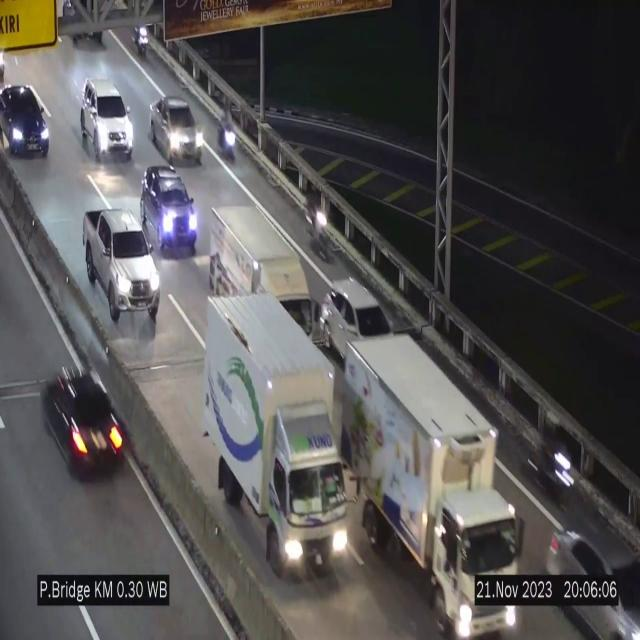Car: (545, 510, 640, 640), (37, 357, 128, 474), (81, 204, 160, 326), (323, 276, 394, 358), (140, 166, 198, 254), (80, 71, 134, 162), (0, 83, 52, 158), (150, 96, 202, 163)
Motorcycle: (534, 421, 576, 513), (304, 180, 334, 266), (217, 94, 239, 172), (129, 9, 151, 70)
Truck: (340, 329, 533, 638), (205, 290, 342, 580), (208, 205, 314, 339)
